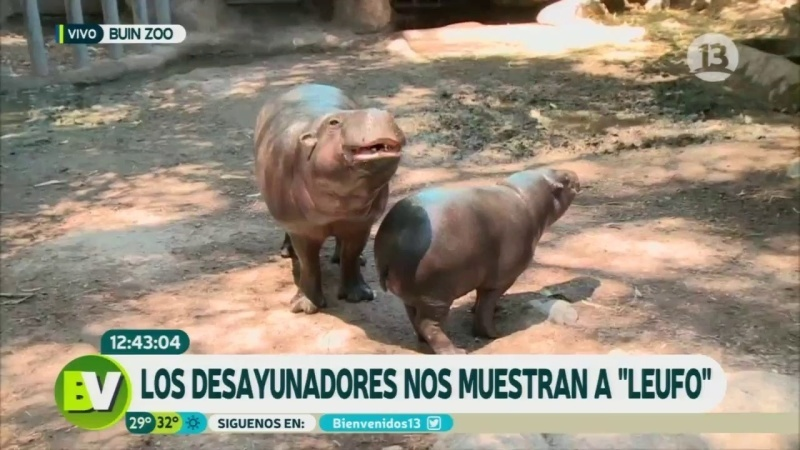hipopotamo: (368, 140, 592, 359), (236, 69, 388, 329)
